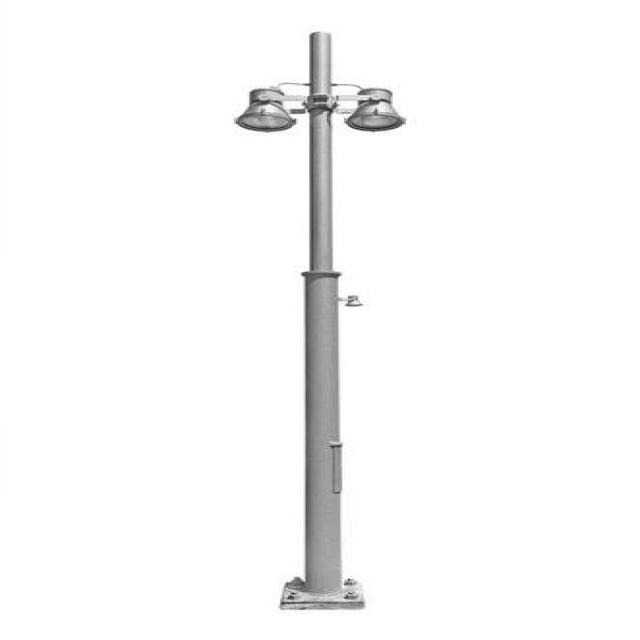Pole: (296, 31, 344, 605)
